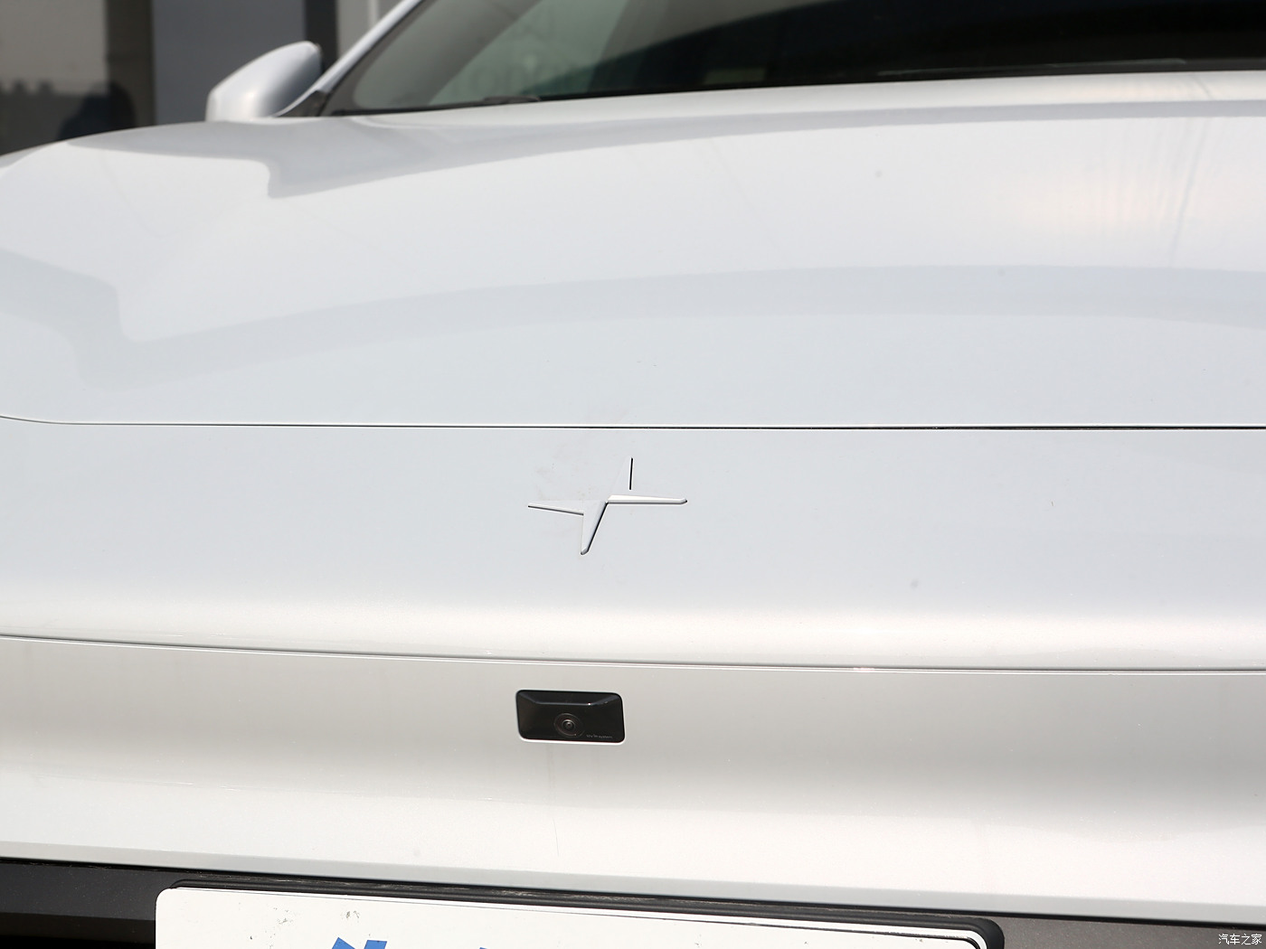Polestar: (528, 457, 686, 554)
